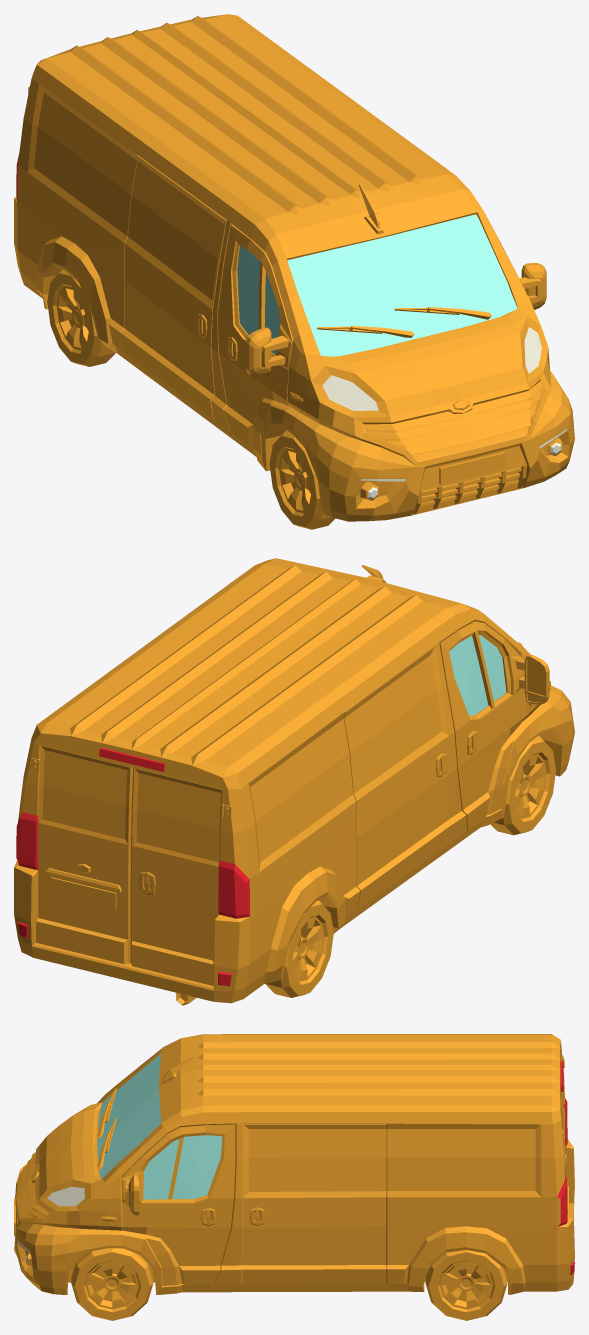
File: SM_Car_CargoVan_Modern.fbx
3 views of the same model, one above another, from view 1: azimuth 30°, elevation 25°; view 2: azimuth 150°, elevation 25°; view 3: azimuth 270°, elevation 25° (orthographic). The views are drawn at different scales.
Visible parts, largest first — view 1: cargo-van-modern_base, cargo-van-modern-door-side-right, cargo-van-modern-door-rfr, cargo-van-modern-wheel-rfr, cargo-van-modern-wheel-rba, cargo-van-modern-door_lfr; view 2: cargo-van-modern_base, cargo-van-modern-door-side-right, cargo-van-modern-door_lba, cargo-van-modern-door_rba, cargo-van-modern-door-rfr, cargo-van-modern-wheel-rfr, cargo-van-modern-wheel-rba; view 3: cargo-van-modern_base, cargo-van-modern-door_side-lef, cargo-van-modern-door_lfr, cargo-van-modern-wheel-lfr, cargo-van-modern-wheel-lba.
Boxes of the visible parts, x1,y1,x2,y2 form: cargo-van-modern_base: (14, 14, 574, 521); cargo-van-modern-door-side-right: (120, 155, 226, 418); cargo-van-modern-door-rfr: (217, 225, 293, 456); cargo-van-modern-wheel-rfr: (269, 430, 335, 529); cargo-van-modern-wheel-rba: (47, 269, 115, 366); cargo-van-modern-door_lfr: (519, 263, 546, 309); cargo-van-modern_base: (14, 558, 574, 1005); cargo-van-modern-door-side-right: (343, 646, 452, 909); cargo-van-modern-door_lba: (36, 745, 132, 963); cargo-van-modern-door_rba: (130, 768, 223, 985); cargo-van-modern-door-rfr: (439, 621, 549, 830); cargo-van-modern-wheel-rfr: (490, 736, 555, 835); cargo-van-modern-wheel-rba: (265, 900, 333, 997); cargo-van-modern_base: (14, 1034, 574, 1294); cargo-van-modern-door_side-lef: (242, 1124, 386, 1284); cargo-van-modern-door_lfr: (121, 1124, 235, 1285); cargo-van-modern-wheel-lfr: (71, 1248, 153, 1320); cargo-van-modern-wheel-lba: (425, 1250, 507, 1320).
Size of the model in its own units: 2.61 by 2.32 by 5.34.
